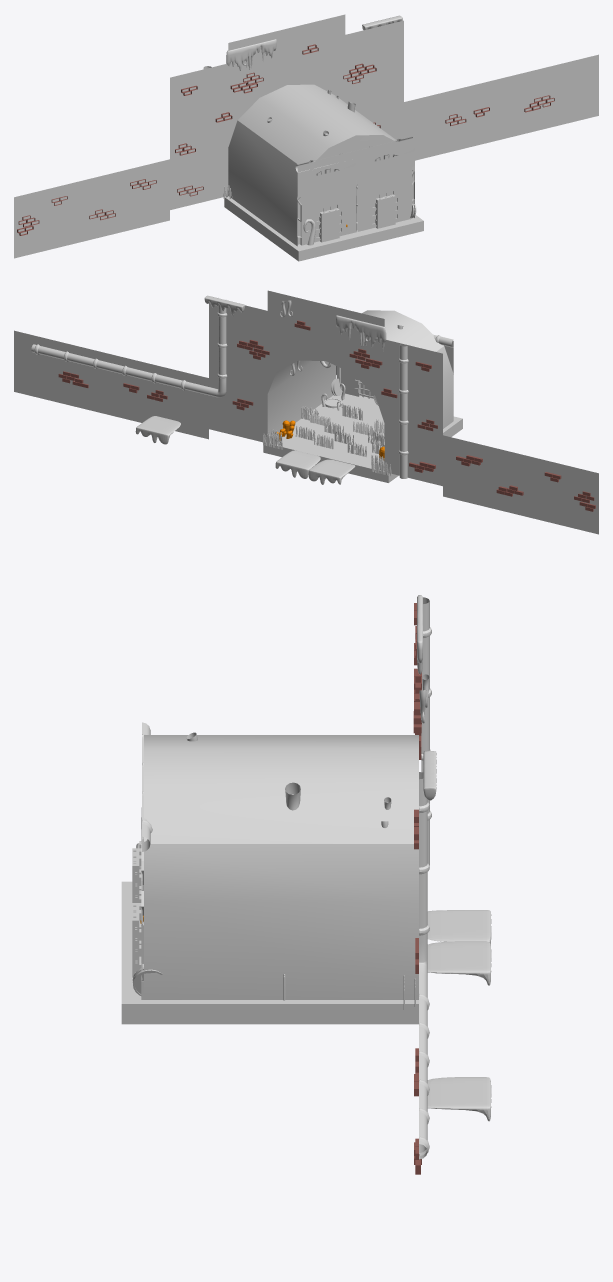
Rendered from fondo 2 .fbx.
The picture shows the model from 3 angles, top to bottom: view 1: azimuth 30°, elevation 25°; view 2: azimuth 150°, elevation 25°; view 3: azimuth 270°, elevation 25°; orthographic projection. The views are drawn at different scales.
Parts seen in each view (by area): view 1: pared 4x6.030, pared 4x4.028, pared 4x4.029, suelo interior alcantarilla .002, pared 4x6.026, pared 4x6.028, pared 4x6.027, pared 4x4.036, pared 4x4.033, pared 4x4.035, pared 4x4.037, Plane.002 (+15 smaller); view 2: pared 4x6.030, suelo interior alcantarilla .002, pared 4x6.026, pared 4x6.027, pared 4x6.028, pared 4x4.036, pared 4x4.035, pared 4x4.033, pared 4x4.037, estalactita 1 .003, pared 4x2.019, pared 4x2.021 (+16 smaller); view 3: pared 4x6.030, suelo interior alcantarilla .002, Cube.061, Cube.060, Cube.062.
Boxes of the visible parts, <box> form: pared 4x6.030: <box>170,20,414,245</box>; pared 4x4.028: <box>357,152,411,231</box>; pared 4x4.029: <box>301,166,355,245</box>; suelo interior alcantarilla .002: <box>224,196,423,261</box>; pared 4x6.026: <box>540,54,598,109</box>; pared 4x6.028: <box>423,83,481,137</box>; pared 4x6.027: <box>482,69,540,123</box>; pared 4x4.036: <box>53,178,91,228</box>; pared 4x4.033: <box>131,159,169,209</box>; pared 4x4.035: <box>92,169,130,218</box>; pared 4x4.037: <box>14,188,52,237</box>; Plane.002: <box>297,152,356,246</box>; pared 4x6.030: <box>209,302,453,486</box>; suelo interior alcantarilla .002: <box>263,393,462,482</box>; pared 4x6.026: <box>14,330,72,385</box>; pared 4x6.027: <box>72,345,130,399</box>; pared 4x6.028: <box>131,359,189,413</box>; pared 4x4.036: <box>521,454,559,504</box>; pared 4x4.035: <box>482,445,520,490</box>; pared 4x4.033: <box>443,435,481,485</box>; pared 4x4.037: <box>560,464,598,513</box>; estalactita 1 .003: <box>336,315,386,352</box>; pared 4x2.019: <box>14,371,52,401</box>; pared 4x2.021: <box>92,390,130,420</box>; pared 4x6.030: <box>144,735,418,999</box>; suelo interior alcantarilla .002: <box>121,881,418,1024</box>; Cube.061: <box>427,941,491,985</box>; Cube.060: <box>427,1077,491,1121</box>; Cube.062: <box>427,910,491,944</box>.
Size of the model in its own units: 6000 by 1607 by 1641.
